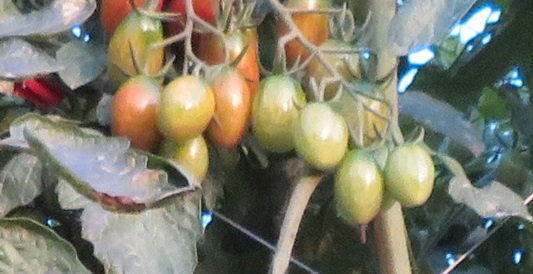green: (331, 146, 387, 230), (156, 70, 216, 142), (105, 11, 165, 80), (296, 98, 348, 175), (255, 69, 297, 156), (387, 138, 433, 210), (337, 82, 390, 142)
orange: (208, 62, 254, 151), (111, 78, 159, 146)
